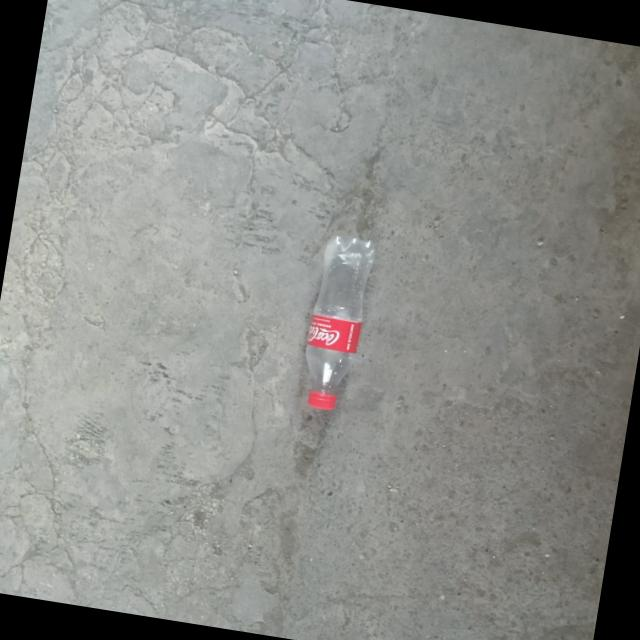Bottle: (305, 234, 373, 411)
